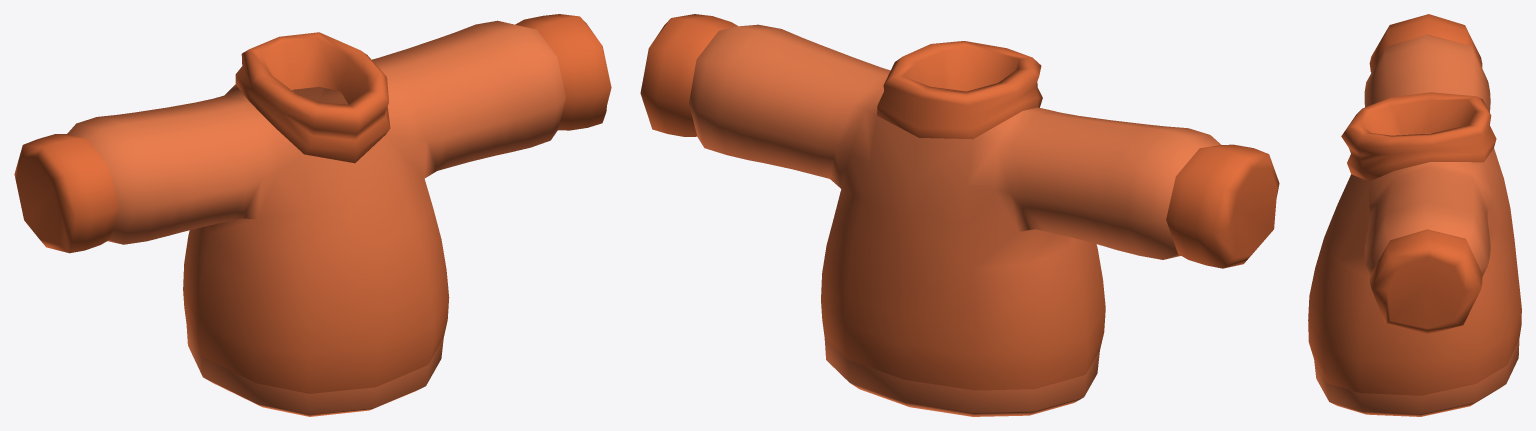
Rendered from Top_25.fbx.
3 views of the same model, side by side, from view 1: azimuth 30°, elevation 25°; view 2: azimuth 150°, elevation 25°; view 3: azimuth 270°, elevation 25° (orthographic). The views are drawn at different scales.
Parts seen in each view (by area): view 1: Top_25; view 2: Top_25; view 3: Top_25.
Part boxes in pixels (x1,y1,x2,y2): Top_25: (14, 14, 611, 416); Top_25: (640, 14, 1279, 416); Top_25: (1308, 14, 1521, 416).
Bounding box in the file's own units: 98 × 52.42 × 37.16.
